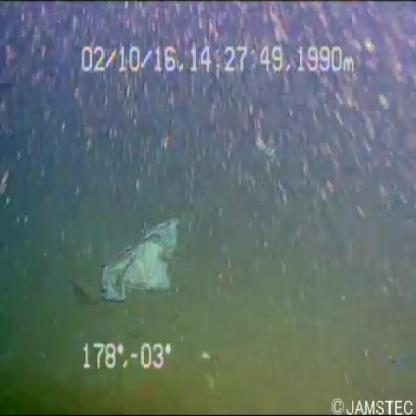Rác: (87, 198, 186, 302), (243, 120, 280, 179)
